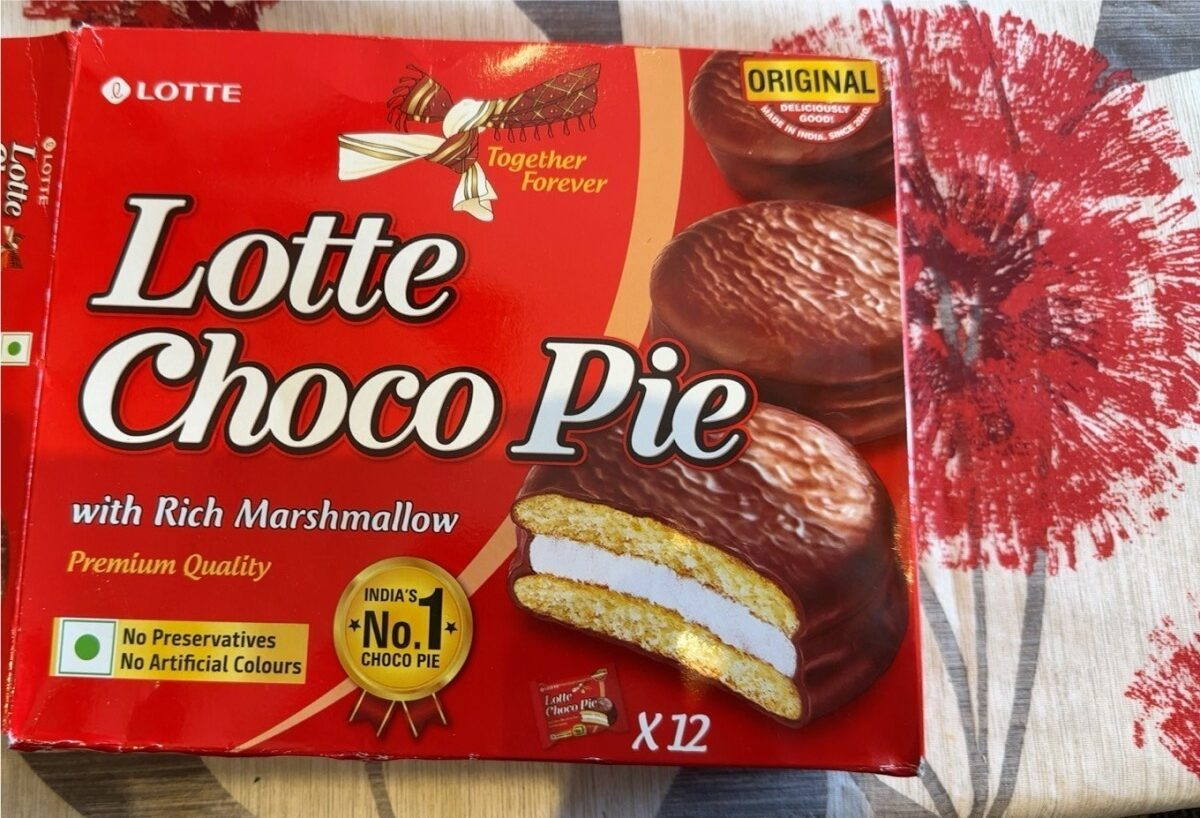Lotto Choco Pie With Rich Marshmallow: (108, 74, 1092, 744)
